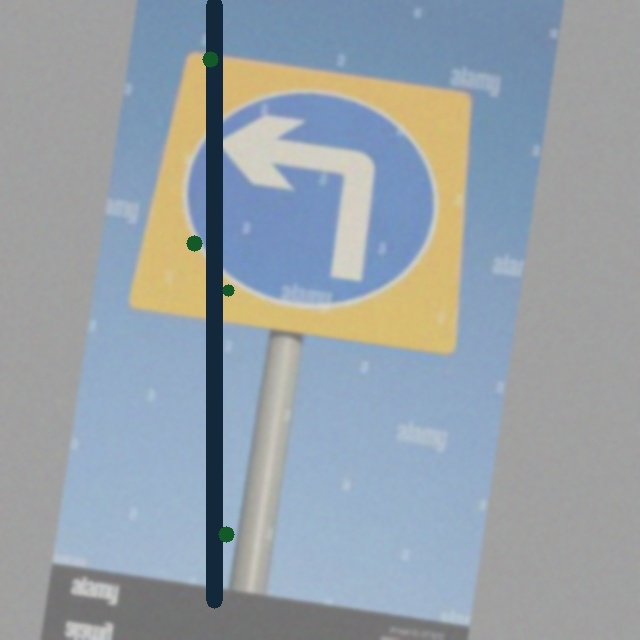Compulsory_Turn_Left_Ahead: (165, 68, 466, 338)
